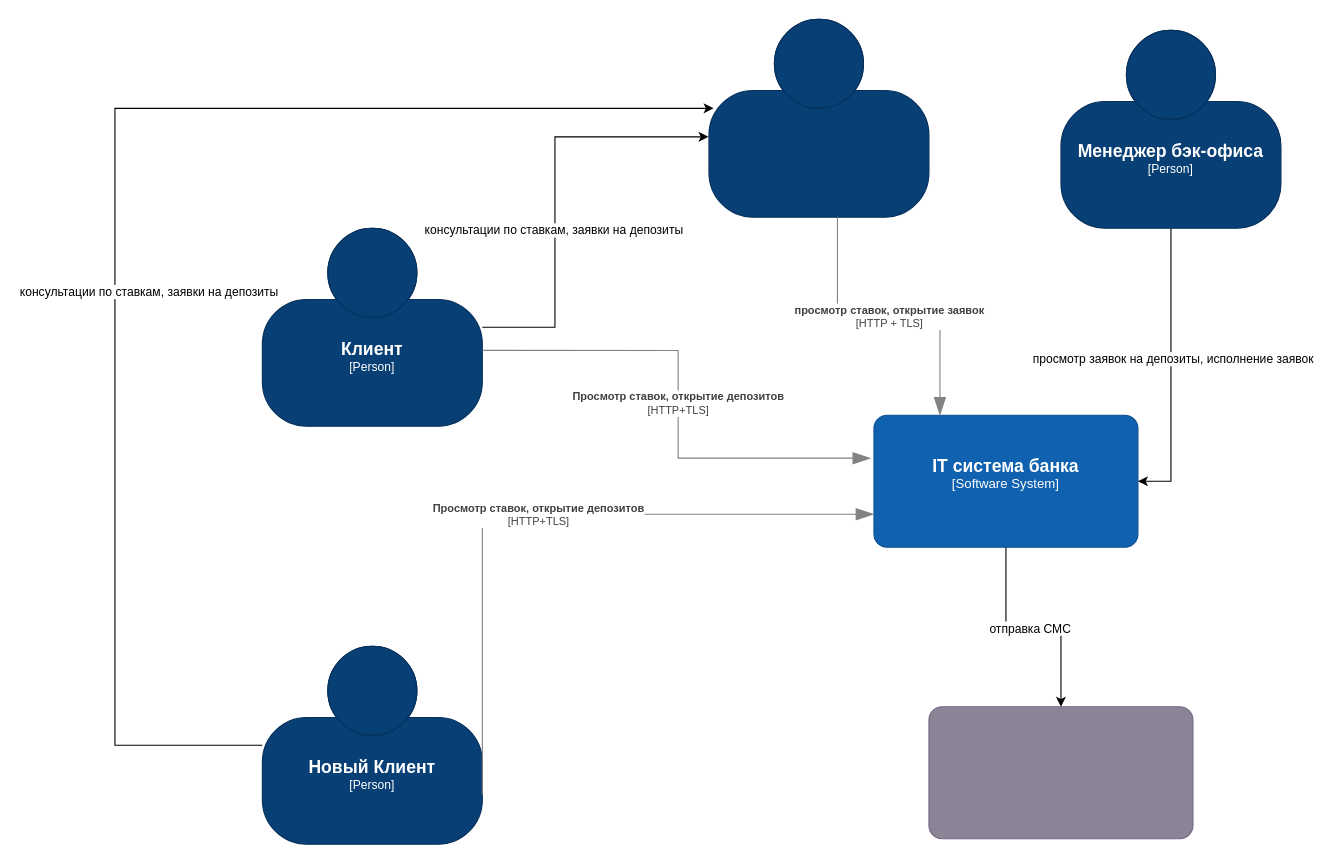
Image size: 1332x864. Some labels were removed from this diagram. Here are the shapes that lost their labels. From the top down, the centre of each, then its label:
At (x=818, y=117): "Сотрудник кол-центра [Person]".
At (x=1060, y=772): "СМС Шлюз [Software System]".
